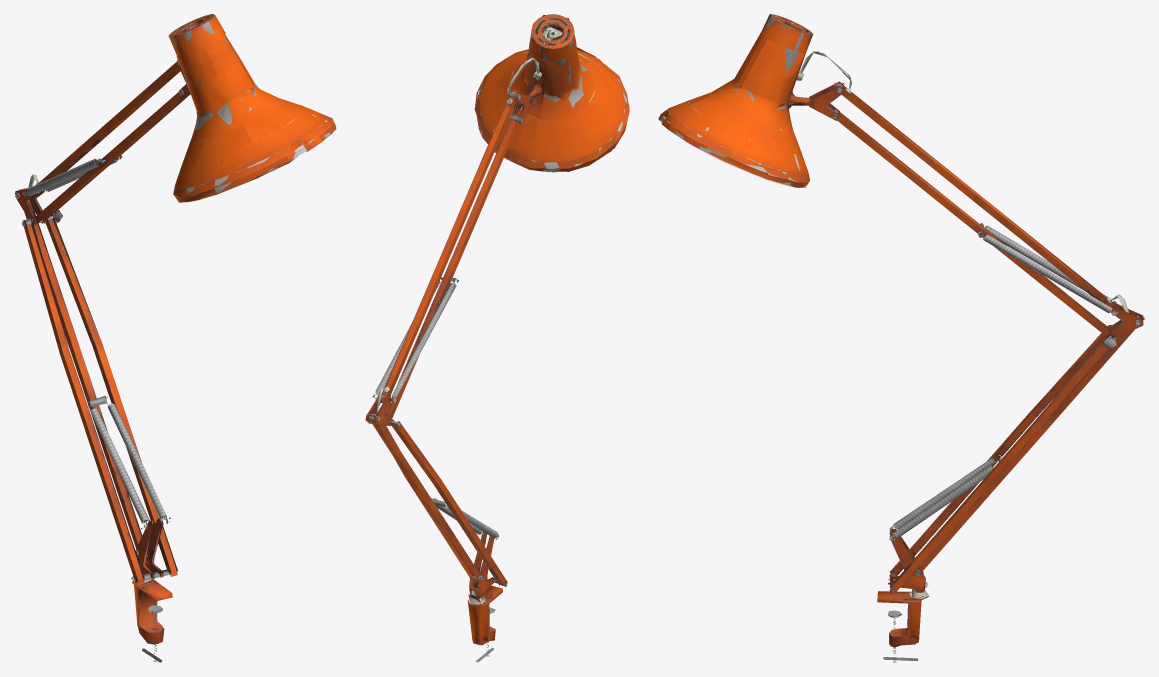
The model's file is desk_lamp.glb.
The picture shows the model from 3 angles, left to right: view 1: azimuth 30°, elevation 25°; view 2: azimuth 150°, elevation 25°; view 3: azimuth 270°, elevation 25°; orthographic projection. The views are drawn at different scales.
Visible parts, largest first — view 1: desk_lamp; view 2: desk_lamp; view 3: desk_lamp.
Part boxes in pixels (bbox=[...]): desk_lamp: bbox=[14, 14, 336, 662]; desk_lamp: bbox=[365, 14, 629, 662]; desk_lamp: bbox=[658, 14, 1144, 662].
Bounding box in the file's own units: 0.2017 × 0.8927 × 0.6157.
Materials: 2 (2 with a texture image).
